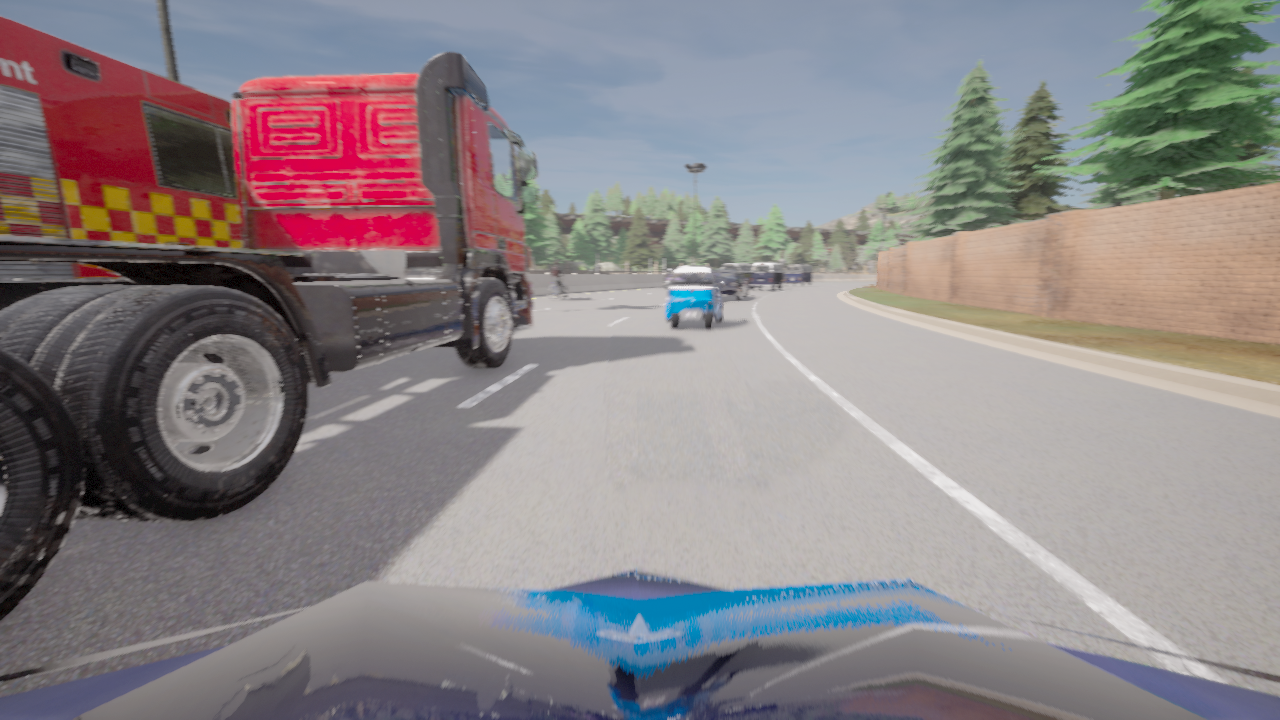cyclist: (0, 51, 538, 622), (0, 569, 1279, 719), (0, 15, 242, 278), (664, 266, 724, 329), (712, 269, 748, 300), (749, 262, 785, 290), (722, 264, 751, 287), (784, 265, 813, 286), (549, 276, 565, 300), (663, 269, 676, 282)
